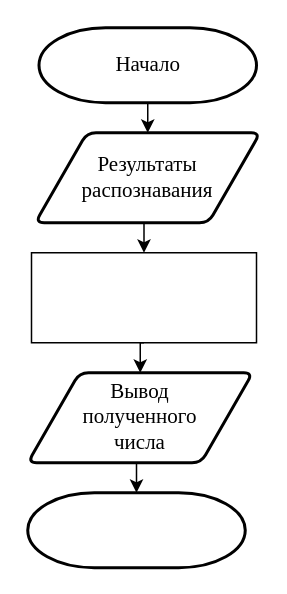
Some shapes in this 287 by 594 pixel diagram are drawn without their labels. Each missing label, with the box of its shape:
Конец: (26, 490, 246, 568)
Последовательное объединение результатов распознавания в число: (30, 251, 256, 343)
